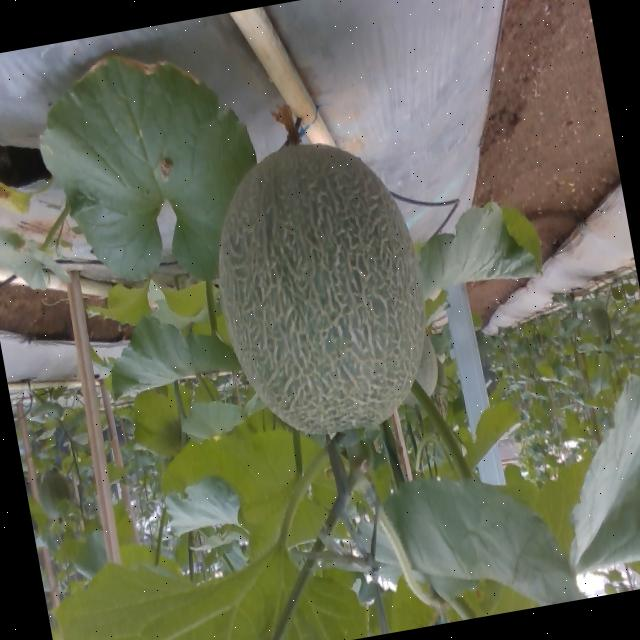melon: (218, 143, 423, 433)
